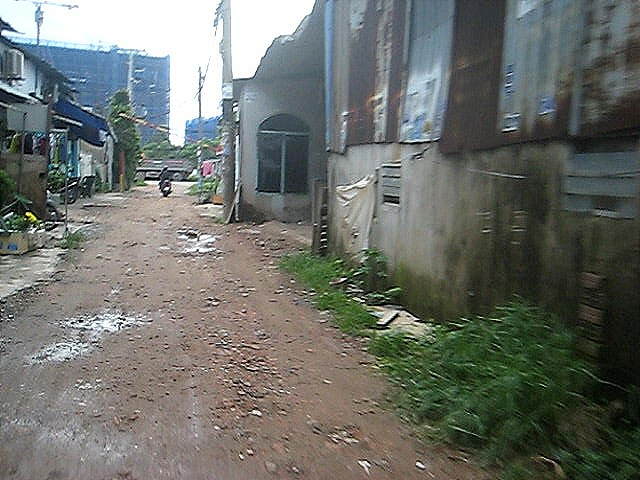hole: (49, 306, 154, 336), (25, 336, 101, 365), (160, 229, 229, 259)
